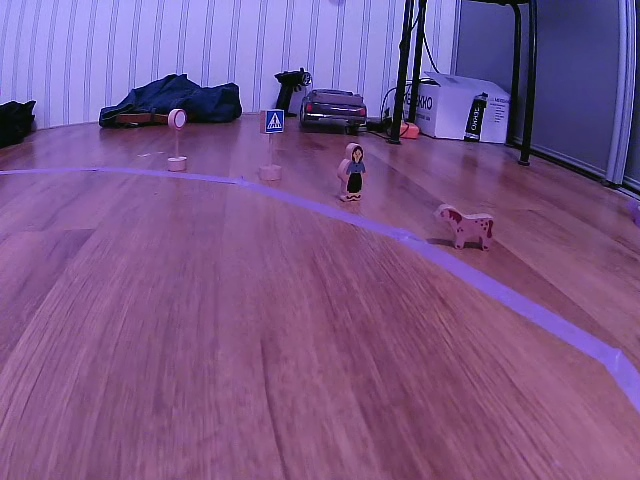mens: (336, 142, 365, 202)
paard: (434, 204, 496, 252)
wegdicht: (169, 110, 187, 129)
zebrapad: (262, 110, 285, 134)
